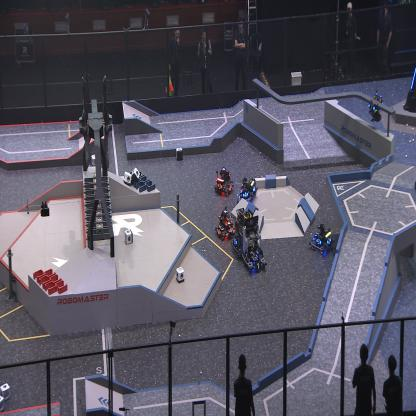car: (242, 216, 267, 273), (230, 207, 253, 258), (309, 222, 333, 254), (214, 207, 235, 241), (214, 167, 234, 196), (237, 178, 257, 204)
